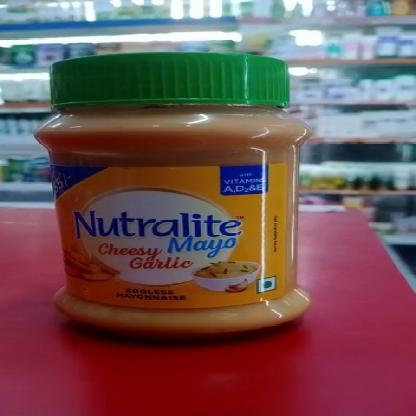Nutralite CHEESY GARLIC MAYO 300g-275g-25g-: (54, 62, 292, 314), (319, 312, 320, 317)
